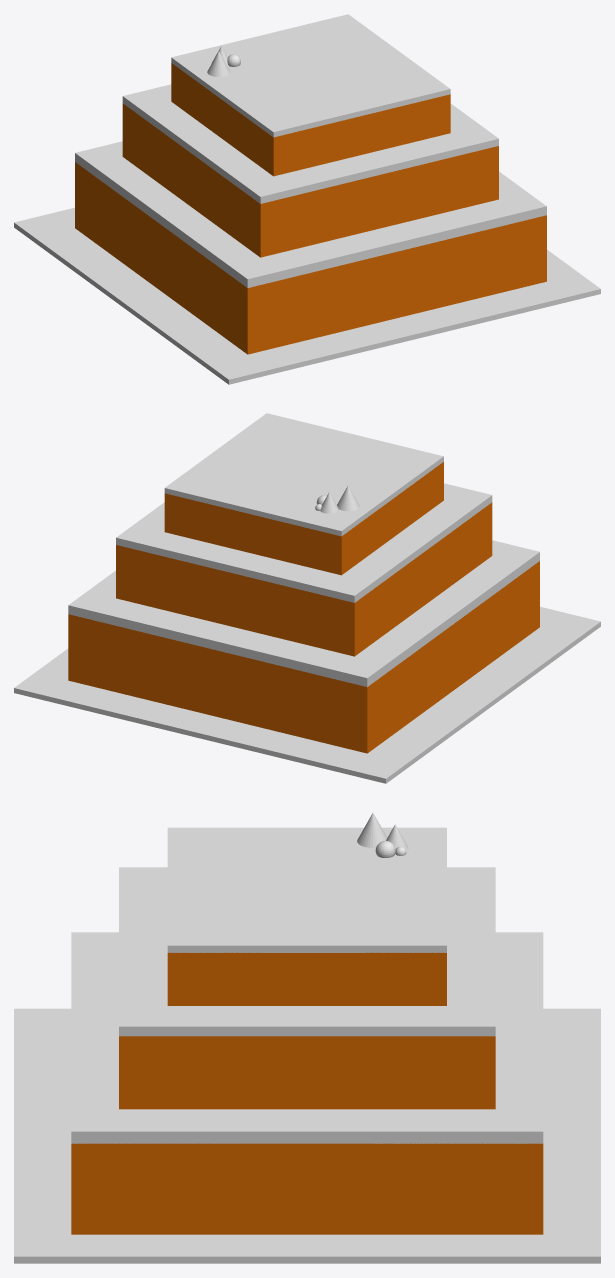
File: 3 layers with design.glb
The picture shows the model from 3 angles, top to bottom: view 1: azimuth 30°, elevation 25°; view 2: azimuth 150°, elevation 25°; view 3: azimuth 270°, elevation 25°; orthographic projection. The views are drawn at different scales.
Visible parts, largest first — view 1: base bot 3, base bot 2, plate 3, base top 1, base top 3, base top 2, base bot 1; view 2: base bot 3, base bot 2, plate 3, base top 1, base top 3, base top 2, base bot 1; view 3: plate 3, base bot 3, base top 1, base top 3, base bot 2, base top 2, base bot 1, pointy frost big 1.
Boxes of the visible parts, x1,y1,x2,y2 form: base bot 3: (75,162,546,354); base bot 2: (122,103,498,257); plate 3: (14,207,600,384); base top 1: (171,14,450,137); base top 3: (75,141,546,287); base top 2: (122,84,498,203); base bot 1: (171,63,450,176); base bot 3: (68,561,539,753); base bot 2: (116,502,492,656); plate 3: (14,606,600,783); base top 1: (164,413,443,536); base top 3: (68,540,539,687); base top 2: (116,483,492,602); base bot 1: (164,462,443,575); plate 3: (14,1008,600,1263); base bot 3: (71,1143,543,1234); base top 1: (167,827,446,952); base top 3: (71,932,543,1143); base bot 2: (119,1036,495,1109); base top 2: (119,867,495,1036); base bot 1: (167,952,446,1005); pointy frost big 1: (357,813,387,847).
Bounding box in the file's own units: 2 × 1.07 × 2.
